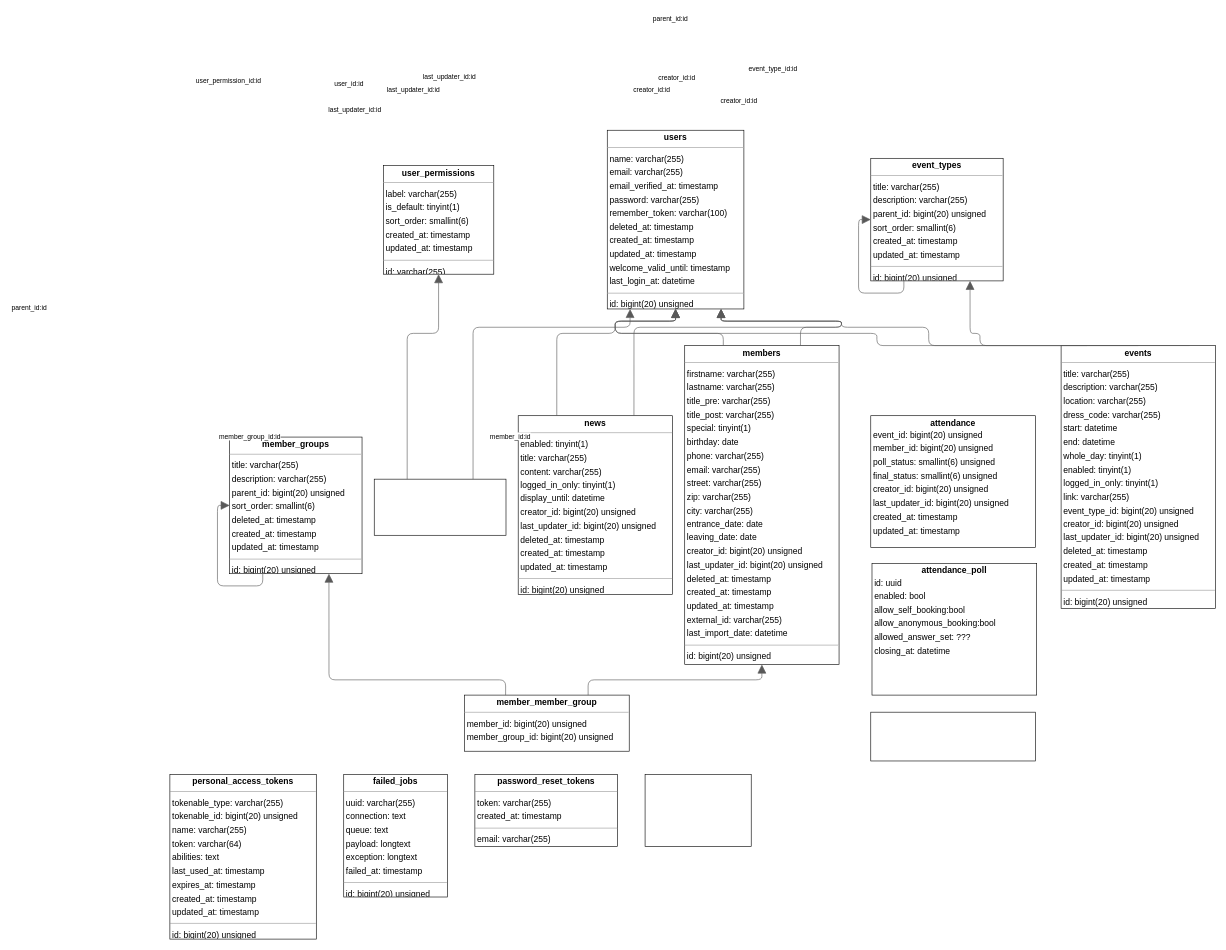
The diagram is 1226 pixels wide and 950 high, and some of its shapes have lost their labels. The shapes that lost their labels are listed below. From the top down, each one's centre as x and y in pixels, then its label:
point (440, 507): user_user_permission user_id: bigint(20) unsigned user_permission_id: char(36)
point (952, 736): attendance_poll_event attendance_poll_id: uuid event_id: int
point (697, 810): migrations migration: varchar(255) batch: int(11) id: int(10) unsigned
